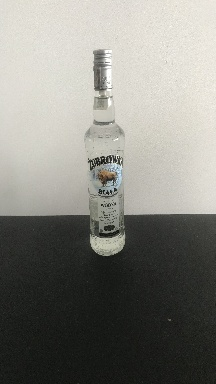butelka: (82, 45, 126, 258)
